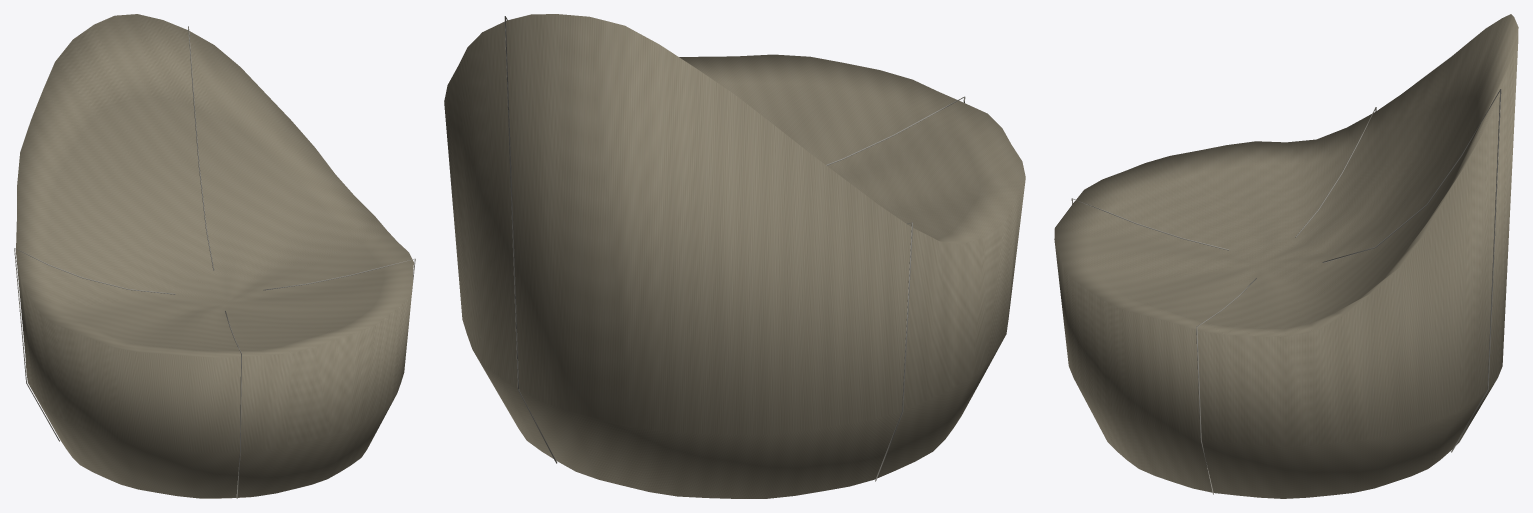
File: beanbag_v06a.glb
The picture shows the model from 3 angles, left to right: view 1: azimuth 30°, elevation 25°; view 2: azimuth 150°, elevation 25°; view 3: azimuth 270°, elevation 25°; orthographic projection. The views are drawn at different scales.
Parts seen in each view (by area): view 1: VIS_BeanbagSculptedSeat, VIS_BeanbagSeams; view 2: VIS_BeanbagSculptedSeat, VIS_BeanbagSeams; view 3: VIS_BeanbagSculptedSeat, VIS_BeanbagSeams.
Boxes of the visible parts, x1,y1,x2,y2 form: VIS_BeanbagSculptedSeat: [16, 14, 413, 498]; VIS_BeanbagSeams: [14, 26, 415, 498]; VIS_BeanbagSculptedSeat: [444, 14, 1025, 498]; VIS_BeanbagSeams: [504, 16, 965, 481]; VIS_BeanbagSculptedSeat: [1054, 14, 1518, 498]; VIS_BeanbagSeams: [1071, 89, 1501, 494].
Size of the model in its own units: 0.7673 by 0.7503 by 0.772.
Materials: 2 (1 with a texture image).
